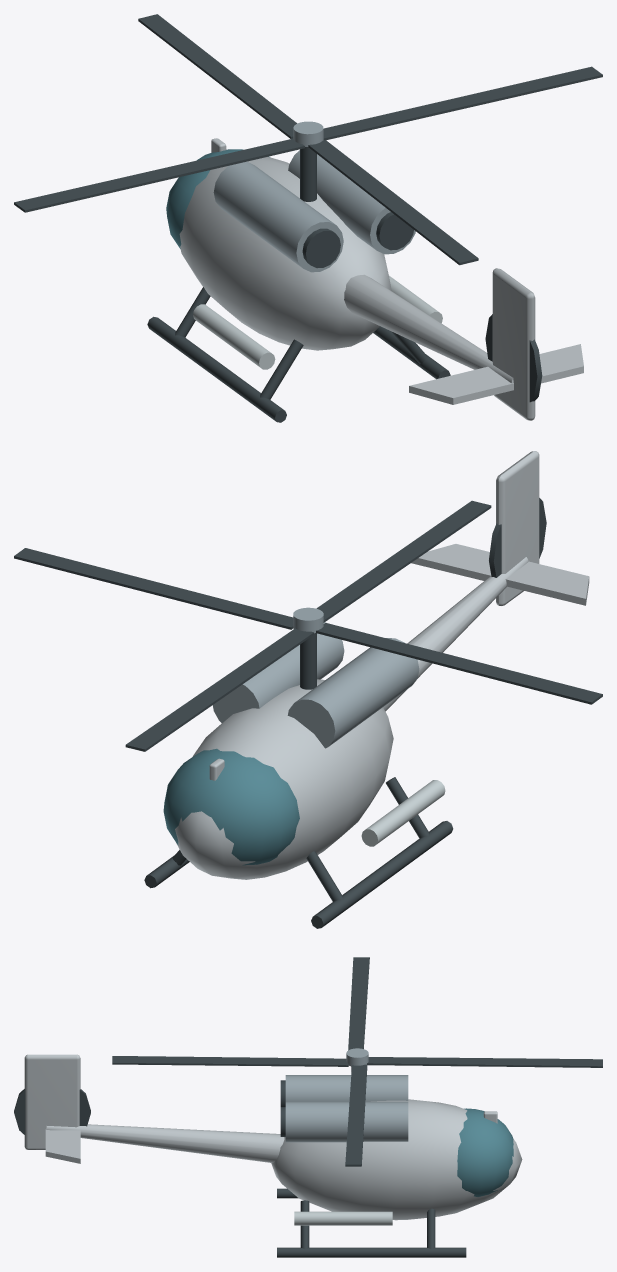
Rendered from generic-helicopter.glb.
3 renders of one model, top to bottom at view 1: azimuth 30°, elevation 25°; view 2: azimuth 150°, elevation 25°; view 3: azimuth 270°, elevation 25°, orthographic. The views are drawn at different scales.
Visible parts, largest first — view 1: helicopter_Cabin, helicopter_MainRotor, helicopter_Turboshaft, helicopter_TailBoom, helicopter_TailFin, helicopter_Tailplane, helicopter_Turboshaft.001, helicopter_LandingSkid, helicopter_Torpedo, helicopter_Cockpit, helicopter_EngineExhaust, helicopter_EngineExhaust.001 (+6 smaller); view 2: helicopter_Cabin, helicopter_MainRotor, helicopter_Cockpit, helicopter_Turboshaft, helicopter_TailFin, helicopter_Tailplane, helicopter_Turboshaft.001, helicopter_TailBoom, helicopter_LandingSkid, helicopter_Torpedo, helicopter_TailRotor, helicopter_RotorMast (+2 smaller); view 3: helicopter_Cabin, helicopter_MainRotor, helicopter_TailBoom, helicopter_TailFin, helicopter_Turboshaft.001, helicopter_Cockpit, helicopter_Turboshaft, helicopter_LandingSkid.001, helicopter_Torpedo.001, helicopter_Tailplane, helicopter_TailRotor.
Boxes of the visible parts, x1=… form: helicopter_Cabin: x1=179, y1=157, x2=391, y2=350; helicopter_MainRotor: x1=14, y1=14, x2=602, y2=265; helicopter_Turboshaft: x1=213, y1=161, x2=343, y2=272; helicopter_TailBoom: x1=344, y1=274, x2=513, y2=383; helicopter_TailFin: x1=492, y1=268, x2=535, y2=420; helicopter_Tailplane: x1=409, y1=344, x2=583, y2=404; helicopter_Turboshaft.001: x1=288, y1=150, x2=415, y2=254; helicopter_LandingSkid: x1=147, y1=316, x2=286, y2=422; helicopter_Torpedo: x1=193, y1=304, x2=275, y2=369; helicopter_Cockpit: x1=166, y1=149, x2=269, y2=248; helicopter_EngineExhaust: x1=302, y1=228, x2=340, y2=268; helicopter_EngineExhaust.001: x1=376, y1=212, x2=413, y2=250; helicopter_Cabin: x1=175, y1=679, x2=393, y2=879; helicopter_MainRotor: x1=14, y1=500, x2=602, y2=751; helicopter_Cockpit: x1=163, y1=748, x2=299, y2=865; helicopter_Turboshaft: x1=287, y1=638, x2=419, y2=748; helicopter_TailFin: x1=496, y1=451, x2=539, y2=605; helicopter_Tailplane: x1=411, y1=544, x2=589, y2=605; helicopter_Turboshaft.001: x1=212, y1=622, x2=344, y2=722; helicopter_TailBoom: x1=383, y1=557, x2=528, y2=711; helicopter_LandingSkid: x1=311, y1=821, x2=453, y2=928; helicopter_Torpedo: x1=361, y1=780, x2=445, y2=846; helicopter_TailRotor: x1=489, y1=498, x2=546, y2=577; helicopter_RotorMast: x1=300, y1=633, x2=316, y2=689; helicopter_Cabin: x1=271, y1=1099, x2=522, y2=1220; helicopter_MainRotor: x1=112, y1=957, x2=602, y2=1166; helicopter_TailBoom: x1=46, y1=1124, x2=284, y2=1162; helicopter_TailFin: x1=24, y1=1054, x2=80, y2=1149; helicopter_Turboshaft.001: x1=285, y1=1101, x2=408, y2=1142; helicopter_Cockpit: x1=457, y1=1108, x2=513, y2=1196; helicopter_Turboshaft: x1=285, y1=1075, x2=408, y2=1101; helicopter_LandingSkid.001: x1=277, y1=1247, x2=466, y2=1257; helicopter_Torpedo.001: x1=294, y1=1211, x2=392, y2=1225; helicopter_Tailplane: x1=45, y1=1129, x2=80, y2=1163; helicopter_TailRotor: x1=14, y1=1089, x2=90, y2=1135.
Size of the model in its own units: 14 by 5.5 by 16.8.
